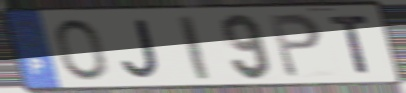9: (220, 11, 274, 82)
I: (175, 13, 213, 82)
J: (119, 17, 163, 81)
O: (53, 17, 110, 82)
P: (267, 11, 324, 80)
T: (327, 14, 373, 76)
